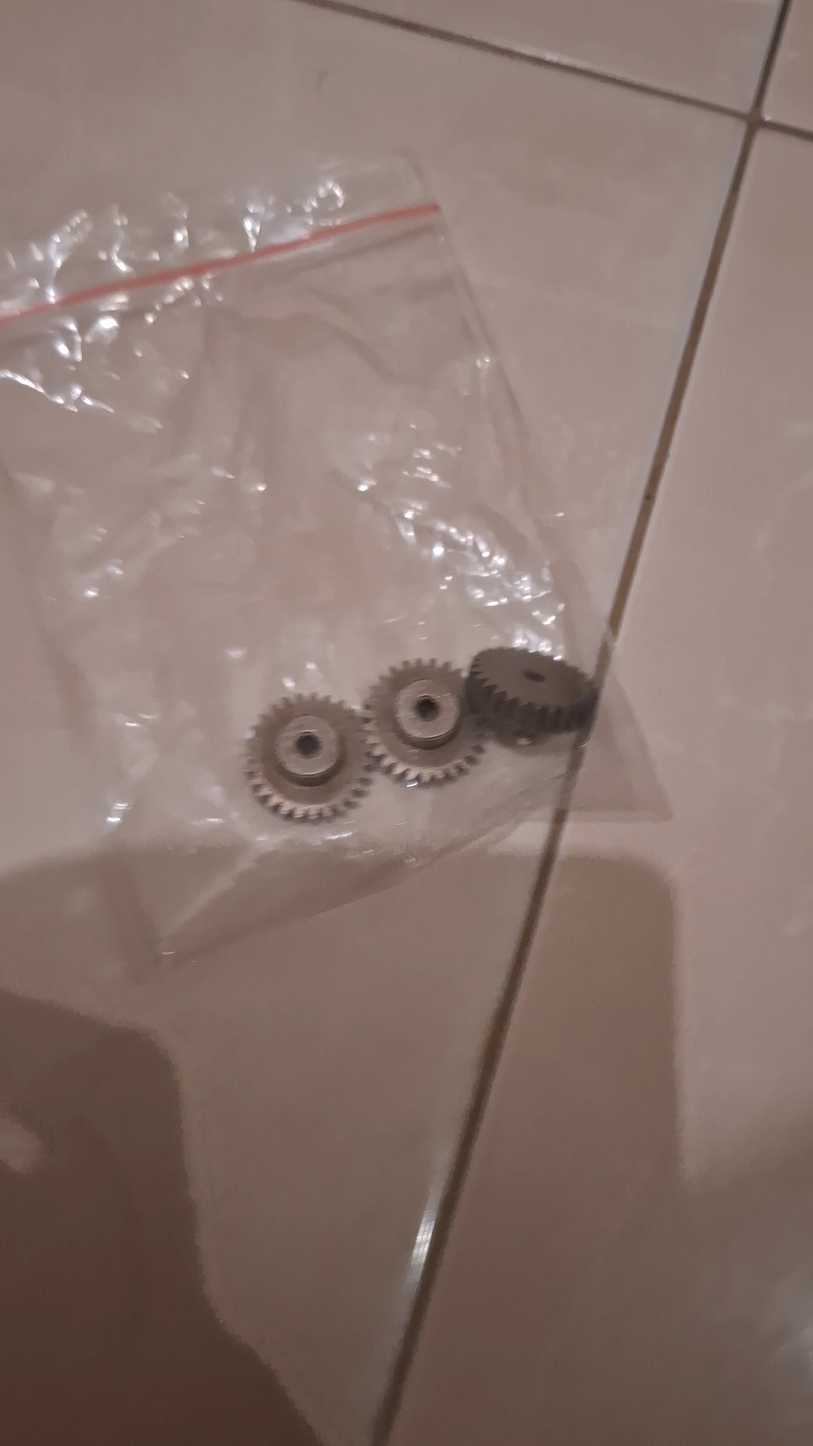spur gear: (241, 691, 376, 821), (365, 659, 491, 781), (464, 645, 600, 744)
